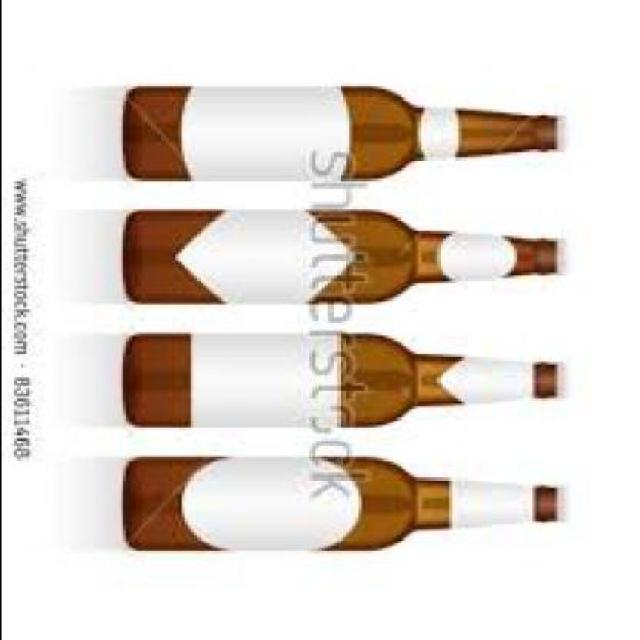GLASS: (124, 205, 556, 302), (124, 84, 556, 181), (128, 330, 555, 425), (124, 456, 558, 549)
METAL: (559, 359, 572, 393), (562, 483, 572, 517), (560, 113, 568, 147), (562, 236, 568, 270)
